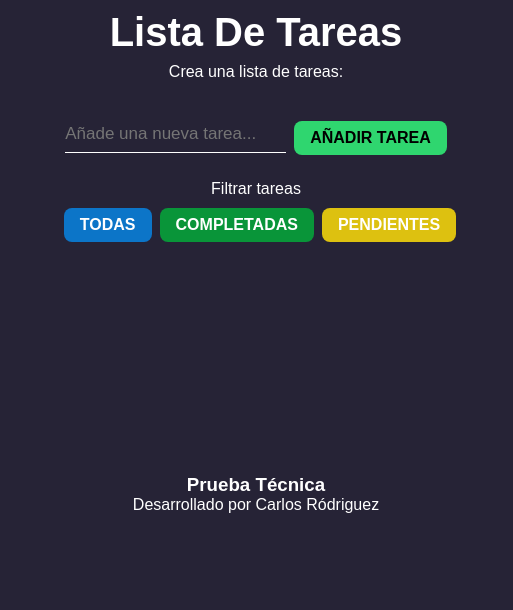
Task Management › allows a user to add, complete and delete a task
# Añadir una tarea
Type "New Task" into the field named "newTask" at x=176, y=135, box 65,116 -> 286,153
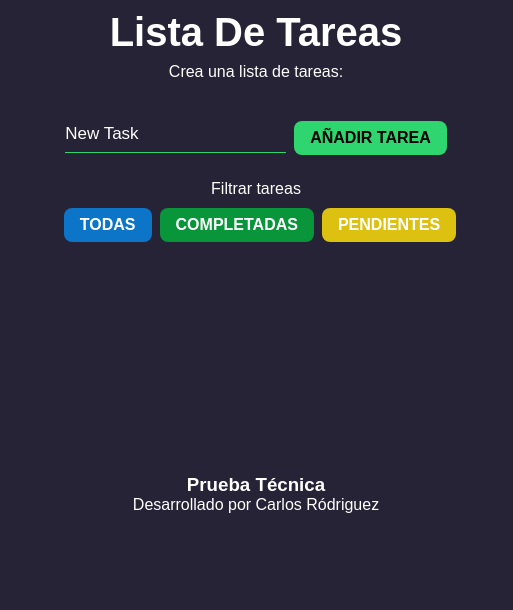
Click the button "Añadir Tarea" at x=371, y=138, box 294,121 -> 447,155
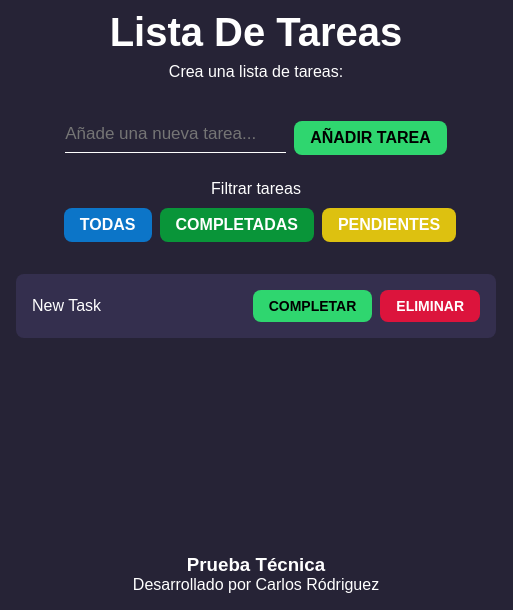
Now the number of elements with class "task" is 1, box 16,274 -> 496,338
Now the text with class "task" reads "New Task", box 32,297 -> 101,314
# Completar una tarea
Click the button "Completar" at x=313, y=306, box 253,290 -> 373,322
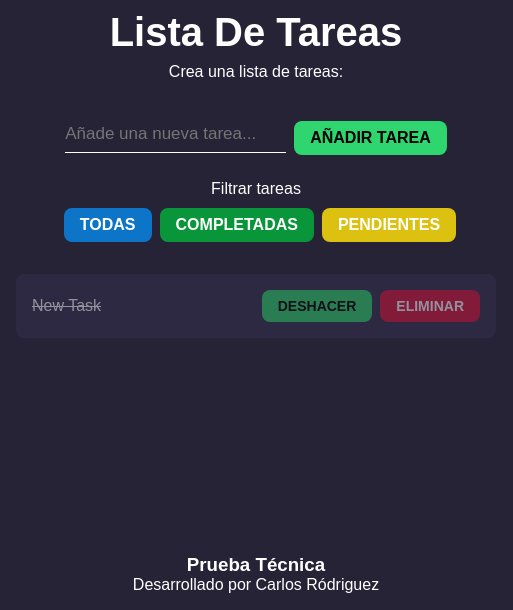
Now the element with class "task" has class "is-complete", box 16,274 -> 496,338
# Deshacer una tarea
Click the button "Deshacer" at x=318, y=306, box 262,290 -> 373,322
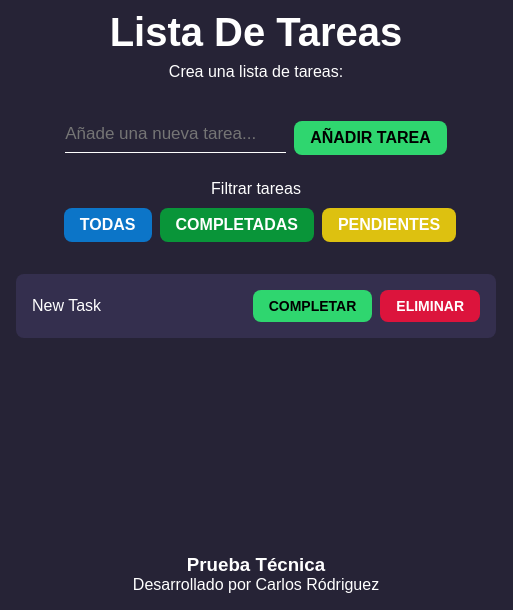
Now the element with class "task" has class "is-not-complete", box 16,274 -> 496,338
# Eliminar una tarea
Click the button "Eliminar" at x=430, y=306, box 380,290 -> 480,322
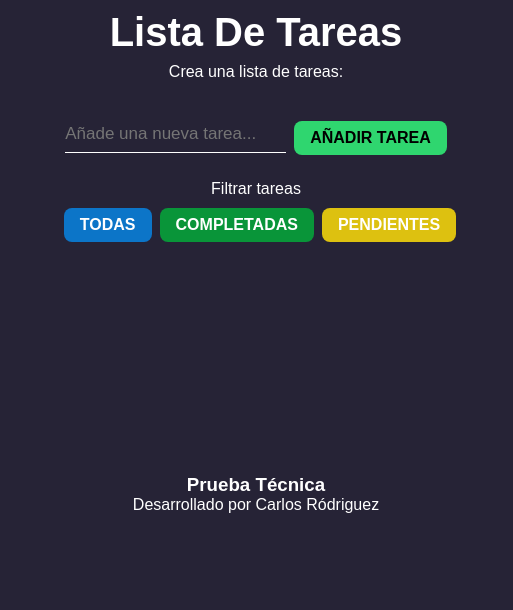
Now the element with class "task" is gone
